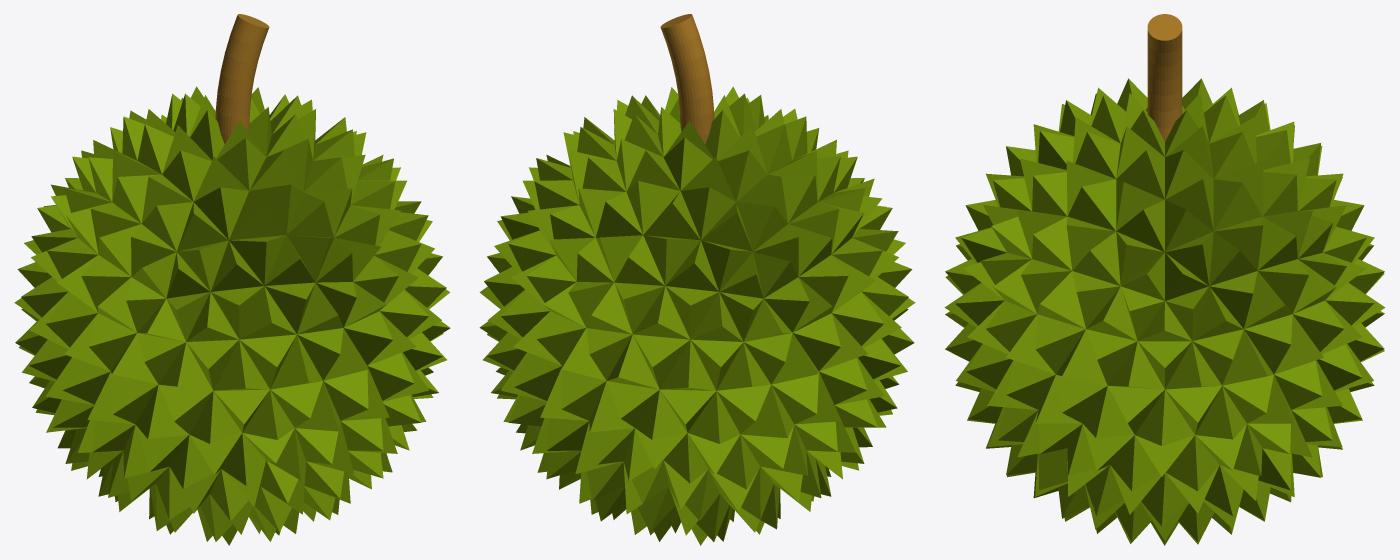
Rendered from durian.fbx.
The picture shows the model from 3 angles, left to right: view 1: azimuth 30°, elevation 25°; view 2: azimuth 150°, elevation 25°; view 3: azimuth 270°, elevation 25°; orthographic projection. The views are drawn at different scales.
Visible parts, largest first — view 1: ICO球, 円柱; view 2: ICO球, 円柱; view 3: ICO球, 円柱.
Boxes of the visible parts, <box> form: ICO球: <box>14,86,450,545</box>; 円柱: <box>215,14,269,143</box>; ICO球: <box>479,86,915,545</box>; 円柱: <box>660,14,714,144</box>; ICO球: <box>944,78,1385,545</box>; 円柱: <box>1147,14,1182,141</box>.
Size of the model in its own units: 561 by 724 by 561.
